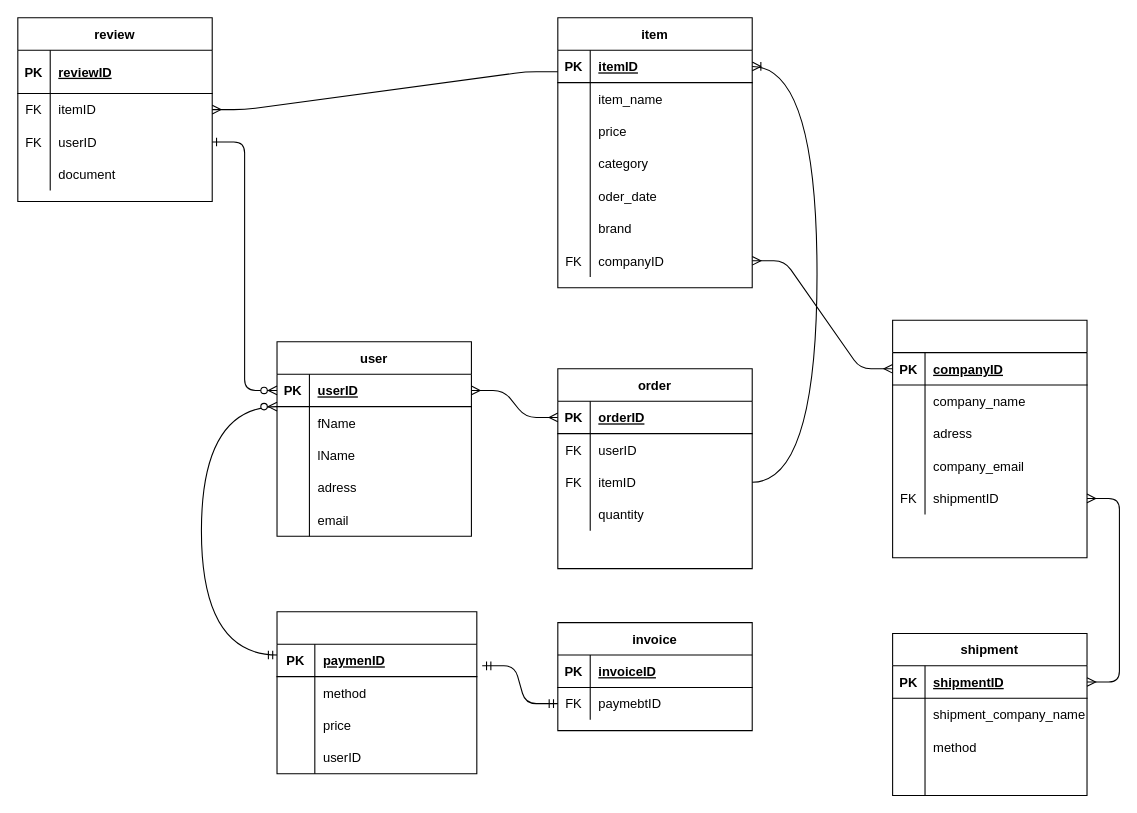
Image size: 1137x813. Some labels were removed from this diagram. The box of each missing label's shape, as (x1, y1, x2, y2) in pixels:
companies: (892, 319, 1087, 558)
payment: (276, 611, 477, 774)
